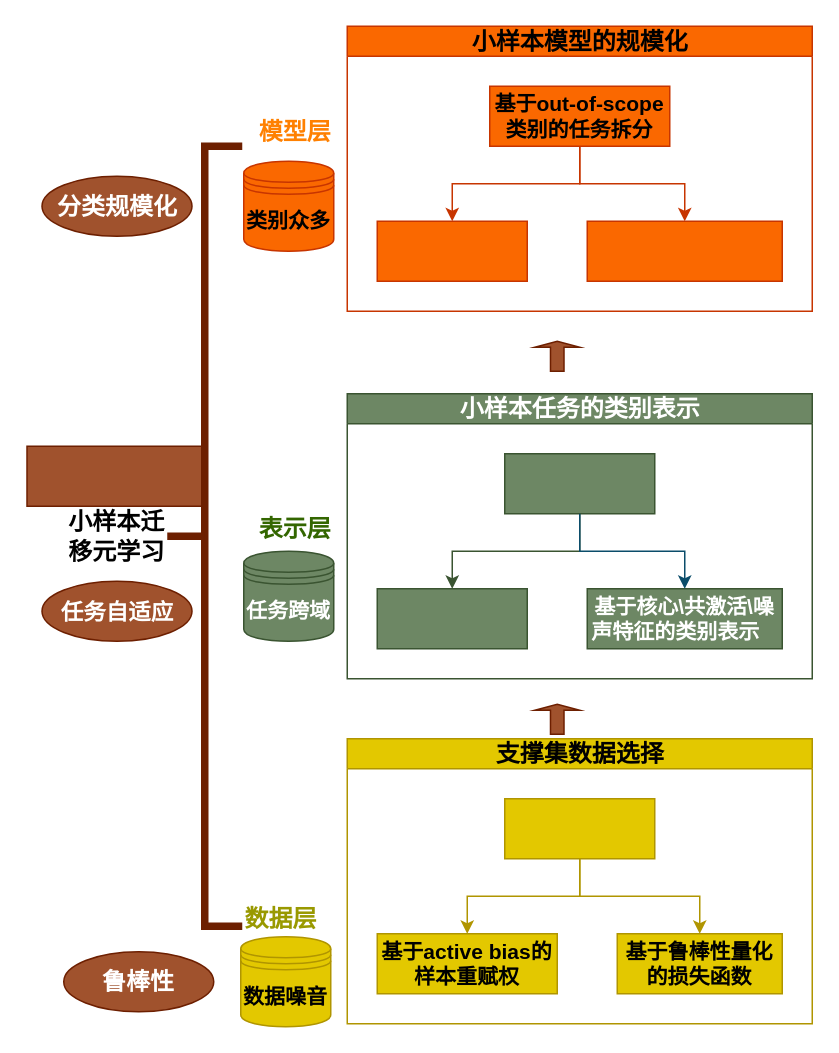
Image size: 839x1053. Some labels were removed from this diagram. Here are the shapes that lost their labels. From the top down, the centre of each, then its label:
the point at 451,250: 动态虚拟类别原型构建
the point at 684,250: 基于局部敏感哈希大规模类别快速拆分
the point at 116,475: 性能目标
the point at 579,483: 任务类别表示
the point at 451,618: 基于任务类别关系的特征提取
the point at 579,828: 数据重赋权
